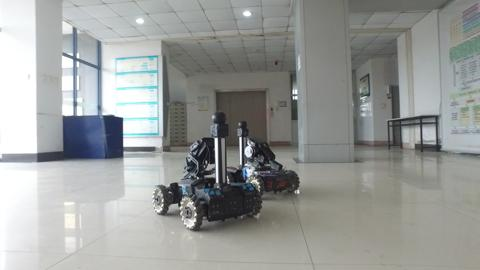chariot: (151, 107, 264, 232), (227, 118, 303, 200)
